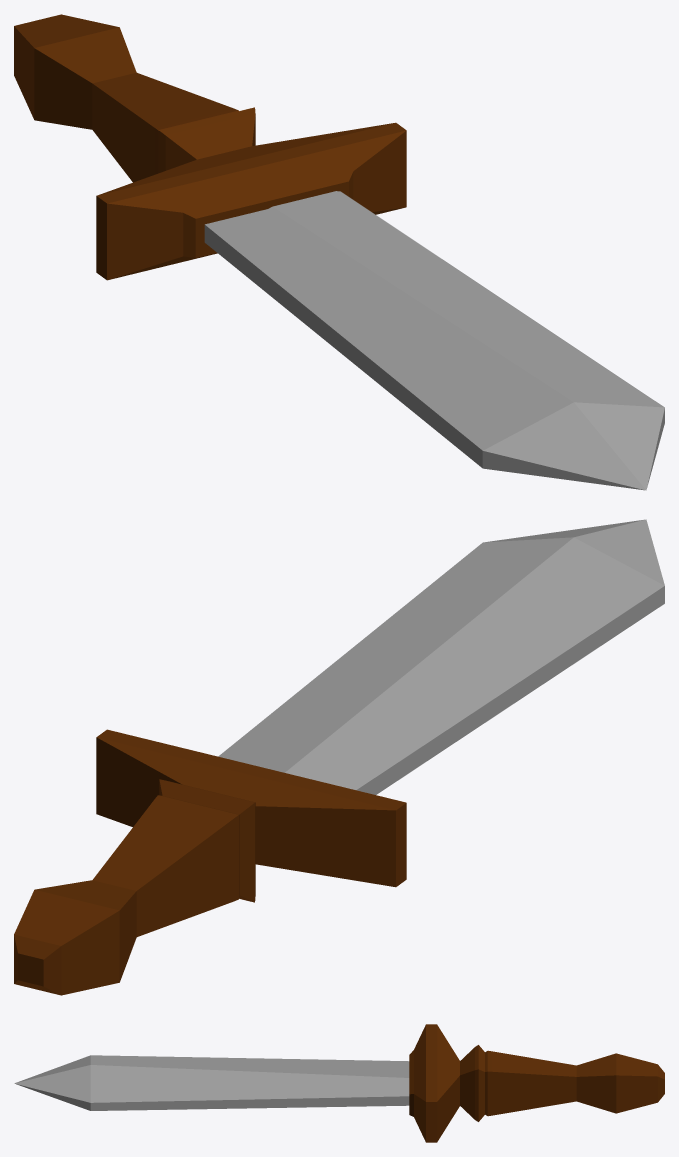
The model's file is kilic_update (1).fbx.
The picture shows the model from 3 angles, top to bottom: view 1: azimuth 30°, elevation 25°; view 2: azimuth 150°, elevation 25°; view 3: azimuth 270°, elevation 25°; orthographic projection. The views are drawn at different scales.
Parts seen in each view (by area): view 1: demir, sap; view 2: demir, sap; view 3: demir, sap.
Part boxes in pixels (x1,y1,x2,y2): demir: [204, 191, 664, 490]; sap: [14, 14, 406, 280]; demir: [218, 519, 664, 794]; sap: [14, 729, 406, 995]; demir: [14, 1055, 409, 1110]; sap: [409, 1024, 664, 1142].
Bounding box in the file's own units: 285 × 90.96 × 1014.
